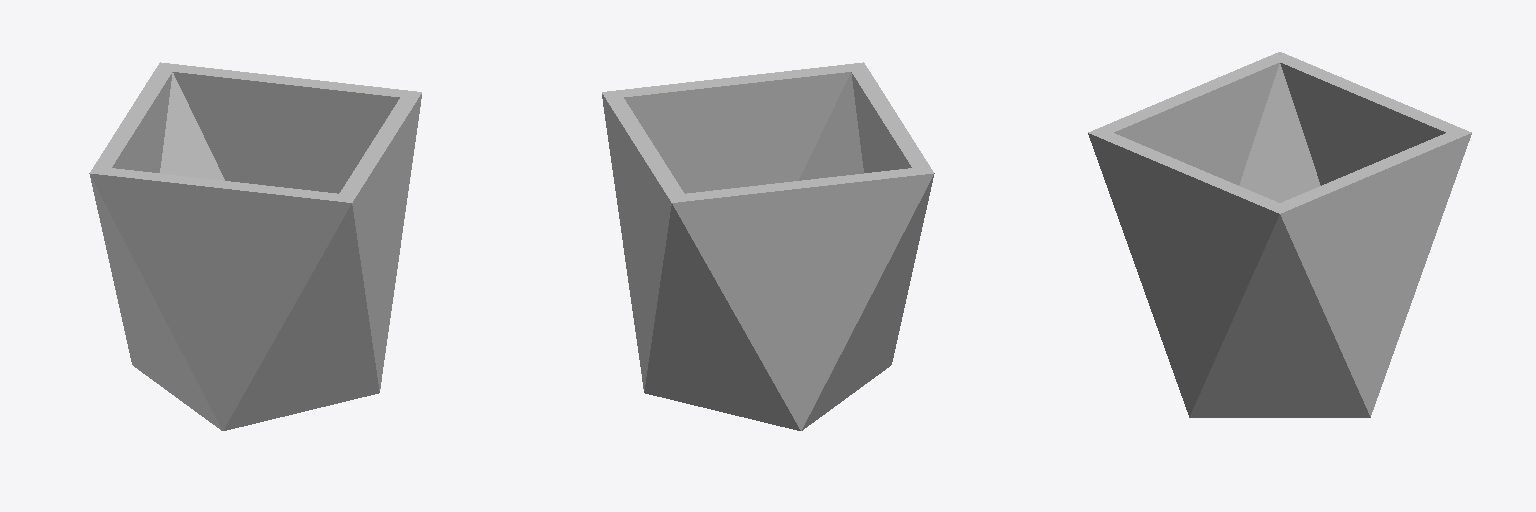
File: planter.obj
3 views of the same model, side by side, from view 1: azimuth 30°, elevation 25°; view 2: azimuth 150°, elevation 25°; view 3: azimuth 270°, elevation 25° (orthographic).
Parts seen in each view (by area): view 1: Cube.046; view 2: Cube.046; view 3: Cube.046.
Part boxes in pixels (x1,y1,x2,y2): Cube.046: (89, 62, 421, 430); Cube.046: (602, 62, 934, 430); Cube.046: (1088, 52, 1471, 417).
Bounding box in the file's own units: 1.06 × 0.75 × 1.06.